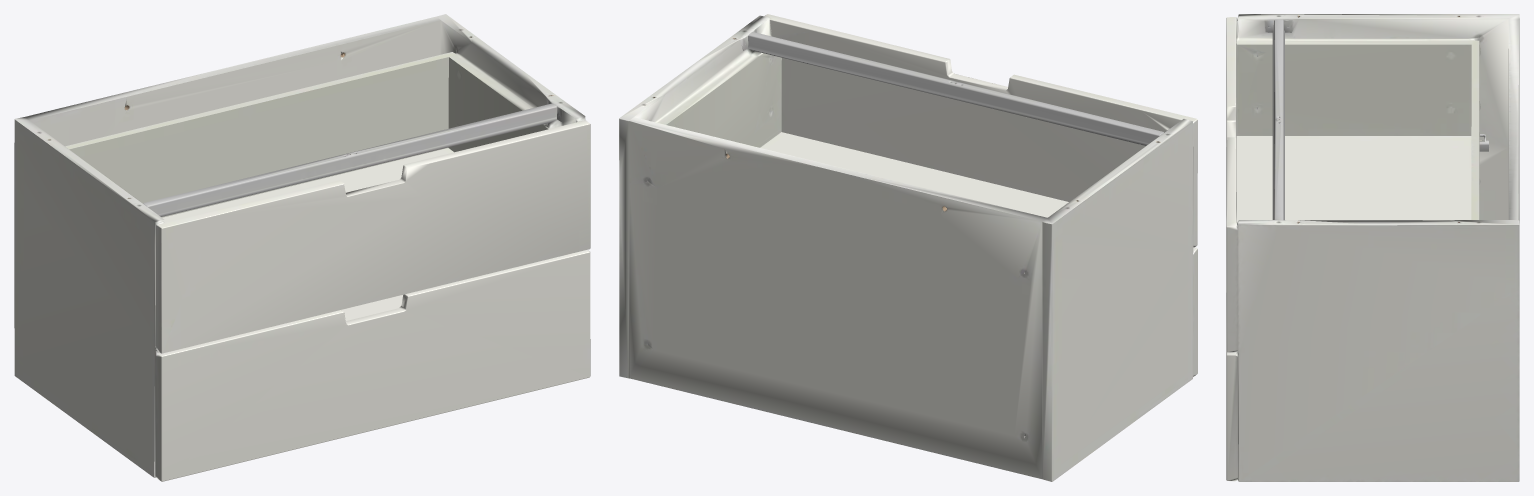
Rendered from 20 - NORDLI - 抽屜櫃2抽, 白色, 80x45 公分 IKEA 線上購物.glb.
The picture shows the model from 3 angles, left to right: view 1: azimuth 30°, elevation 25°; view 2: azimuth 150°, elevation 25°; view 3: azimuth 270°, elevation 25°; orthographic projection.
Visible parts, largest first — view 1: ProcessedMeshNode; view 2: ProcessedMeshNode; view 3: ProcessedMeshNode.
Boxes of the visible parts, left/top/right/bottom form: ProcessedMeshNode: left=14, top=14, right=590, bottom=481; ProcessedMeshNode: left=619, top=14, right=1197, bottom=481; ProcessedMeshNode: left=1226, top=14, right=1519, bottom=481.
Bounding box in the file's own units: 0.7985 × 0.4549 × 0.4694.
Materials: 1 (1 with a texture image).
